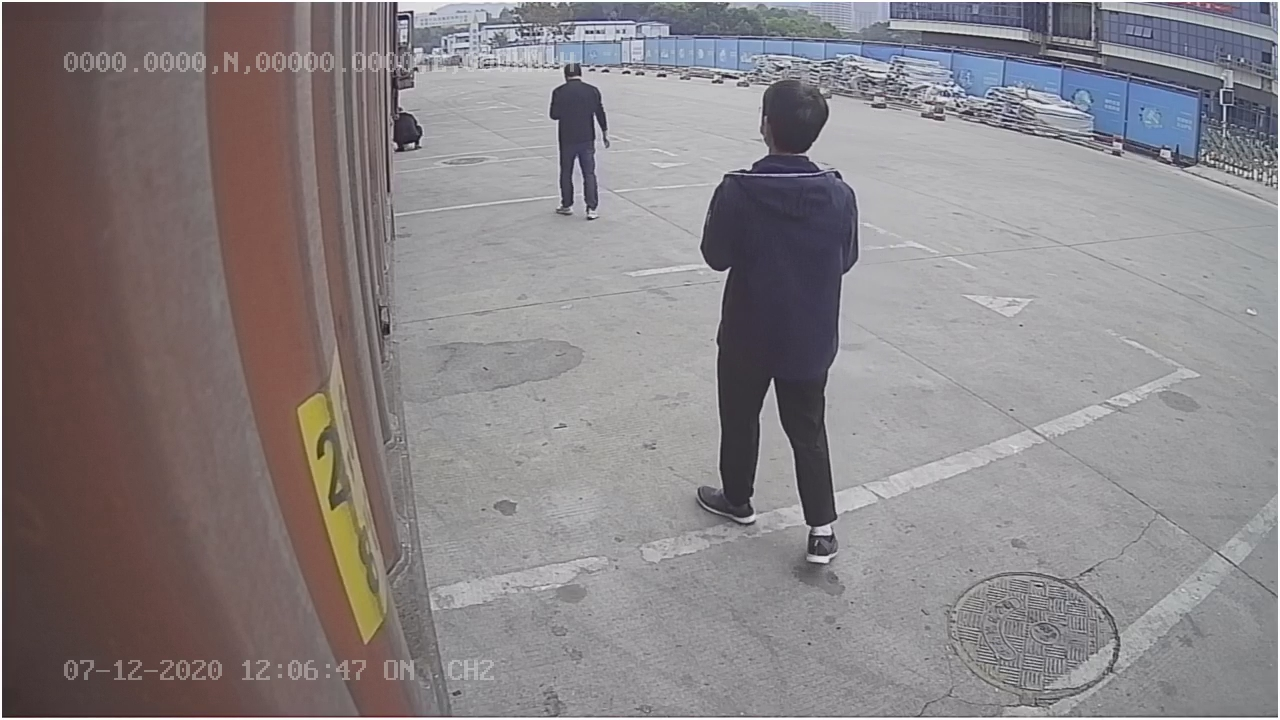person: (682, 78, 867, 563)
